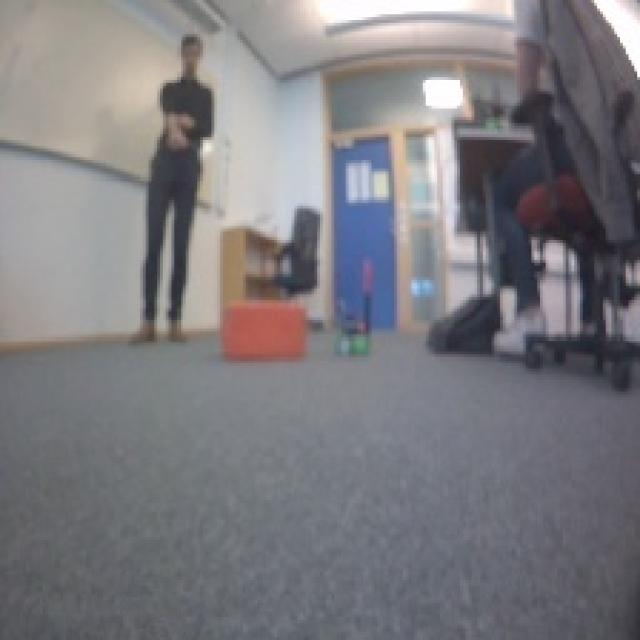robot: (334, 314, 373, 358)
target: (217, 297, 309, 360)
